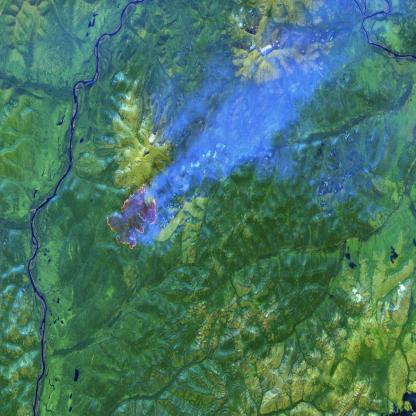fire: (102, 181, 162, 256)
